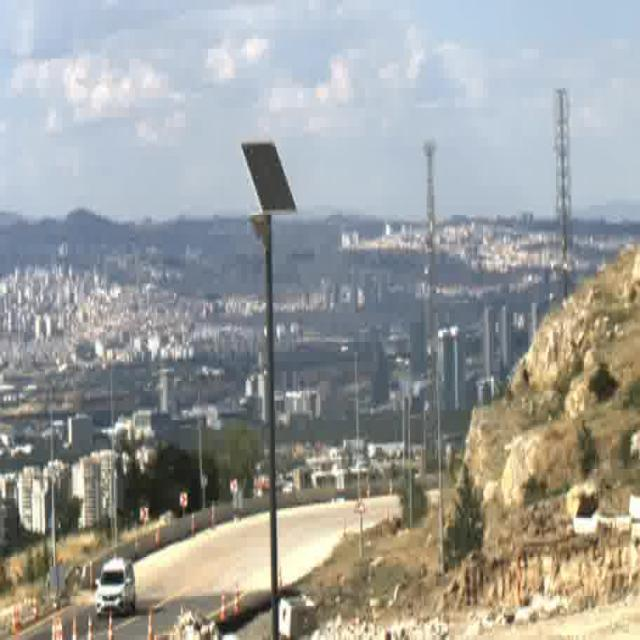Car: (96, 556, 136, 614)
